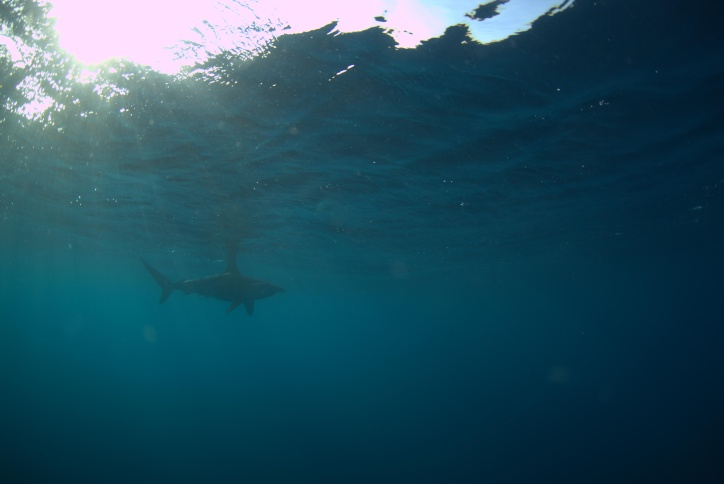Hammer: (112, 237, 321, 351)
